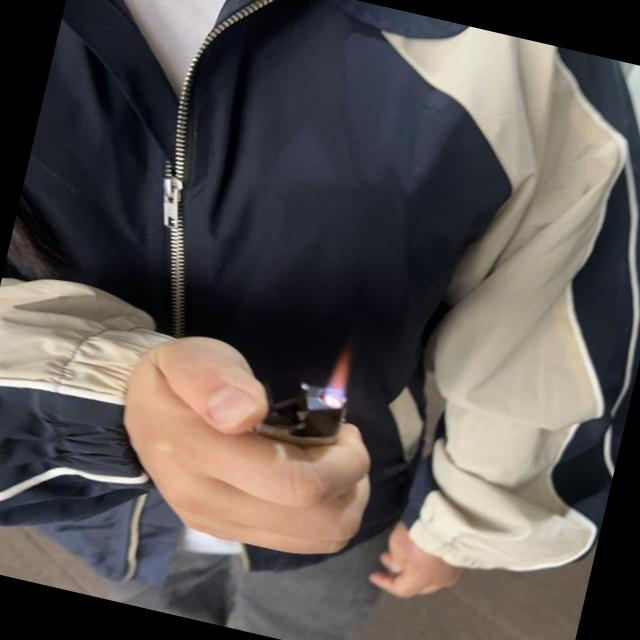Fire: (324, 352, 354, 397)
